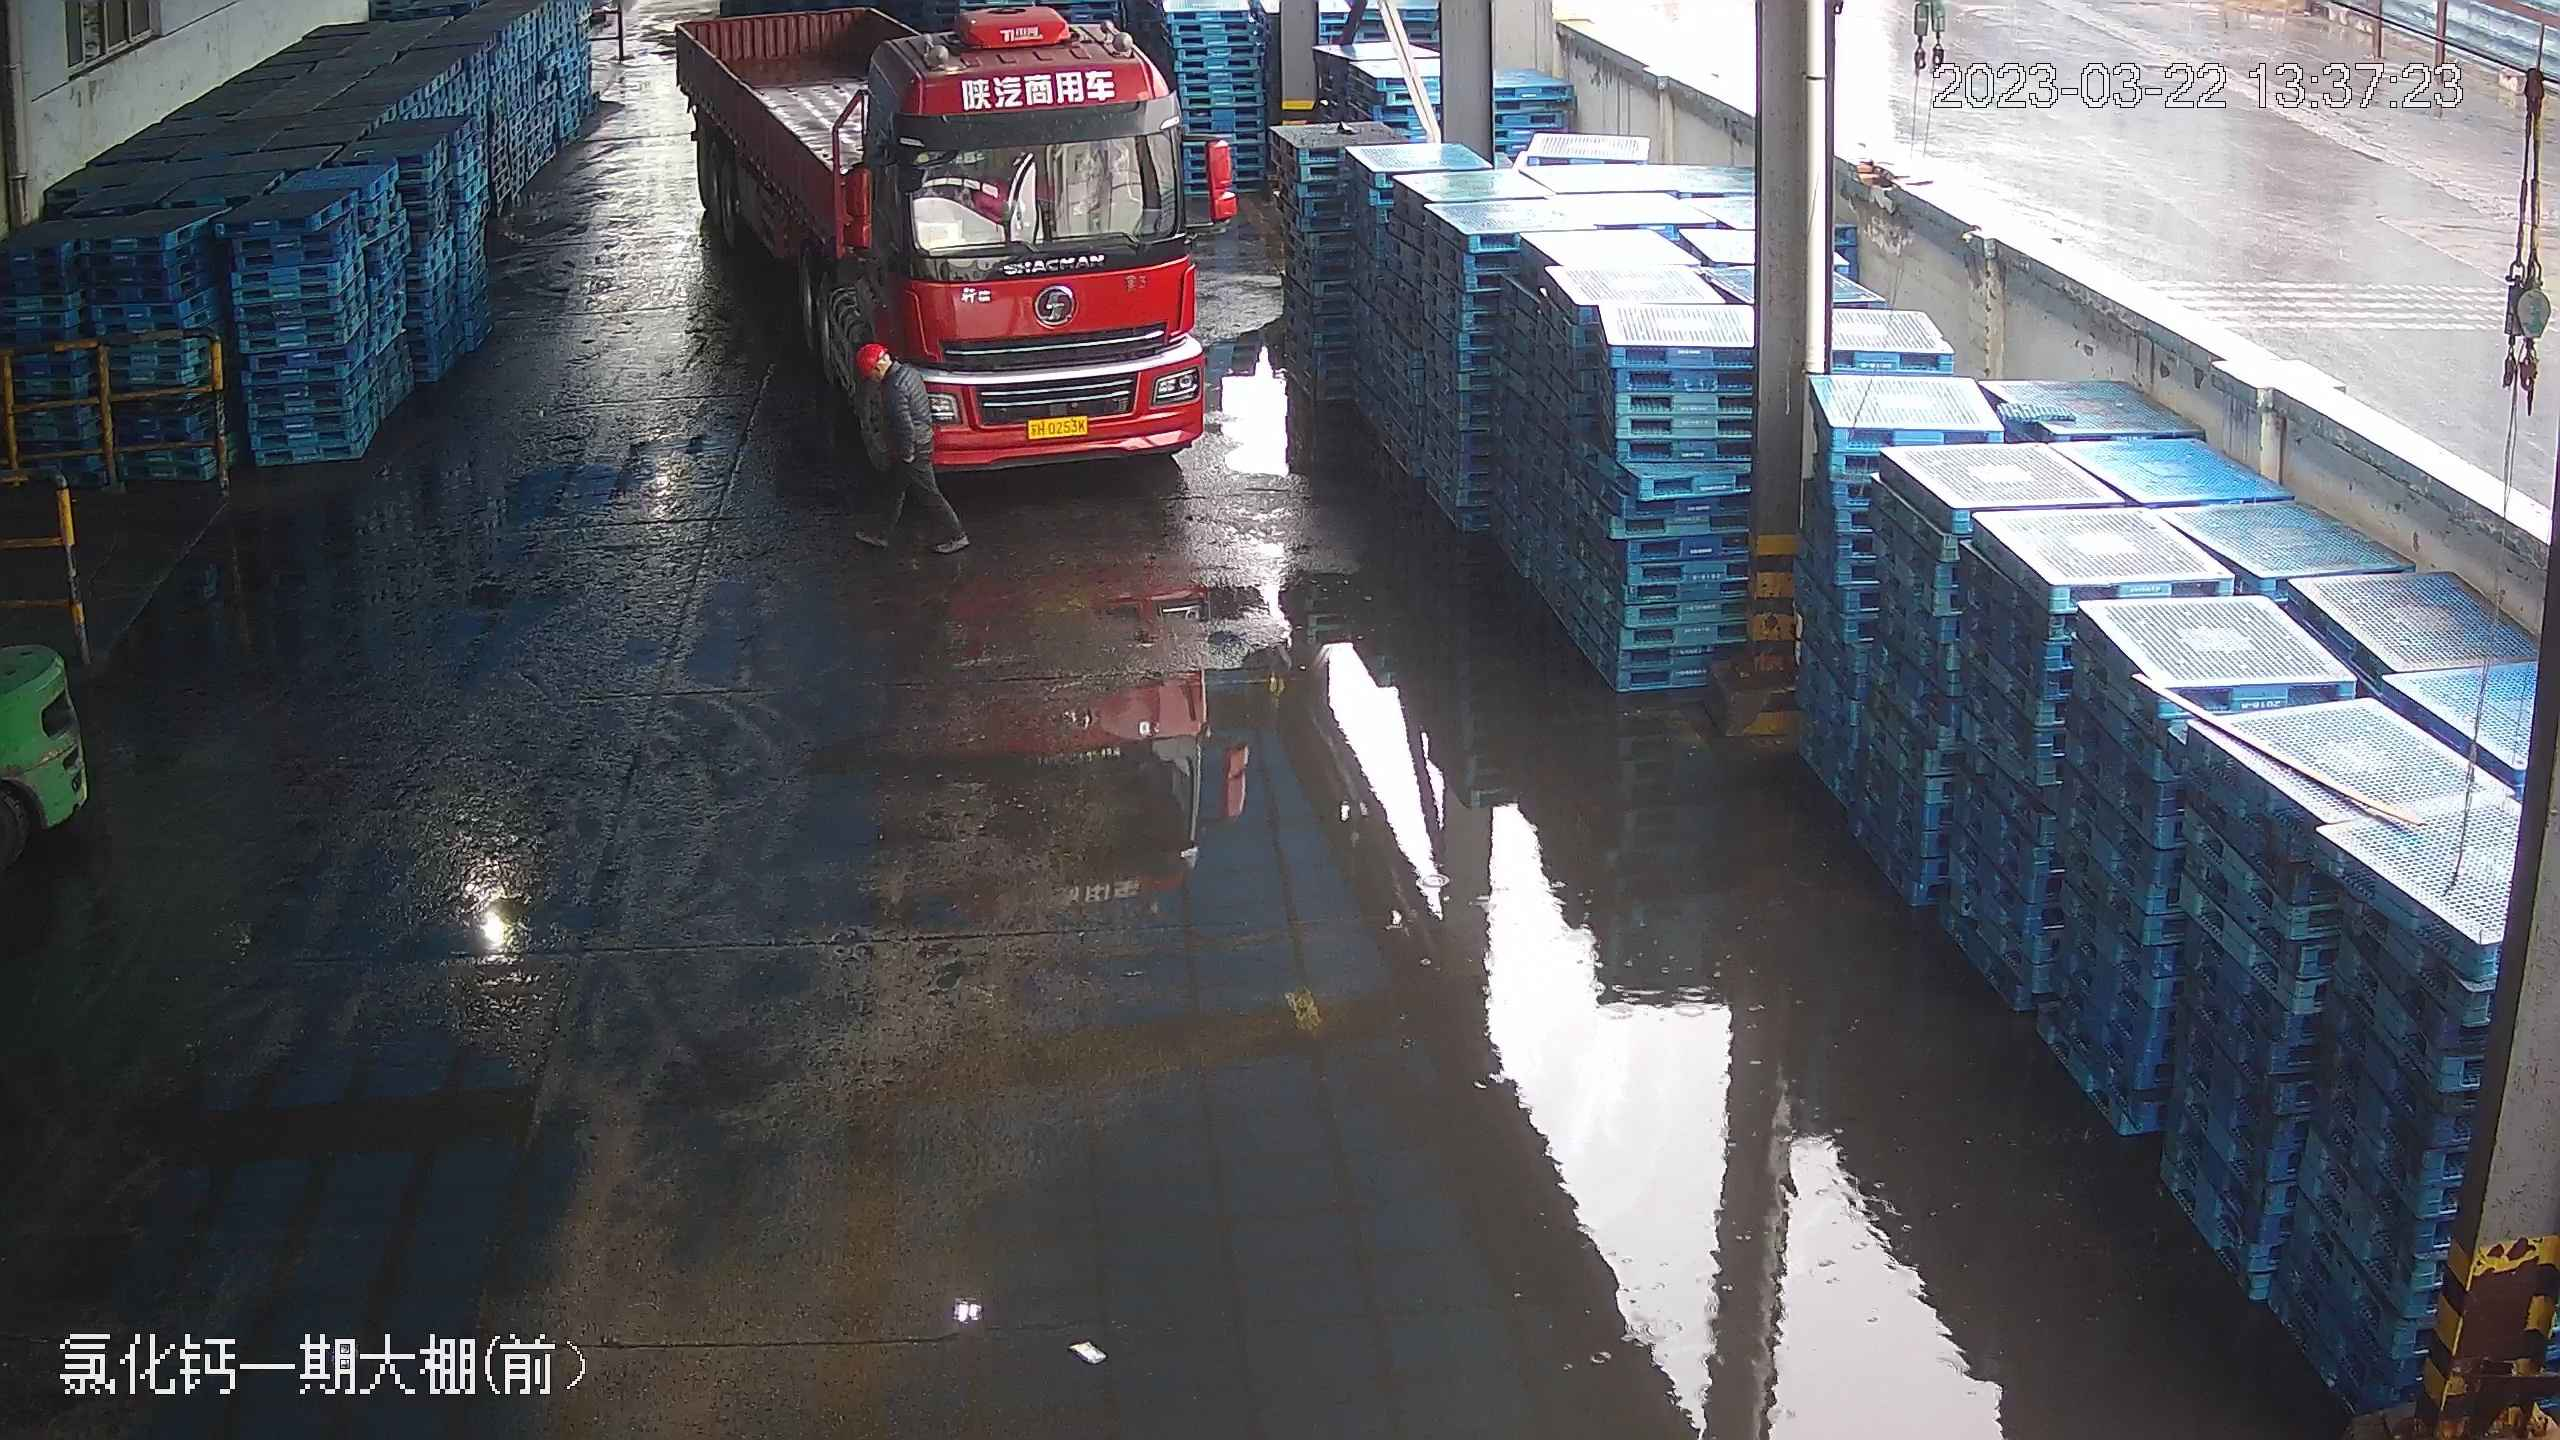head: (848, 335, 921, 413)
helmet: (855, 338, 889, 370)
people: (849, 334, 953, 557)
truck: (667, 0, 1246, 482)
